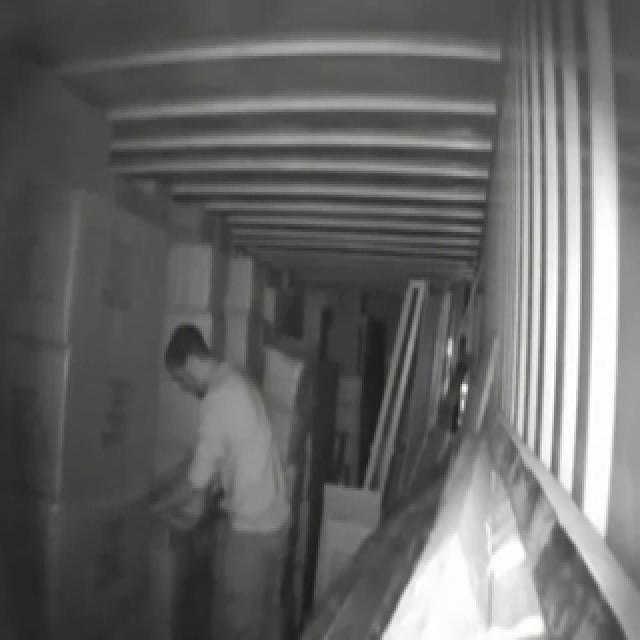burglary: (28, 120, 603, 640)
